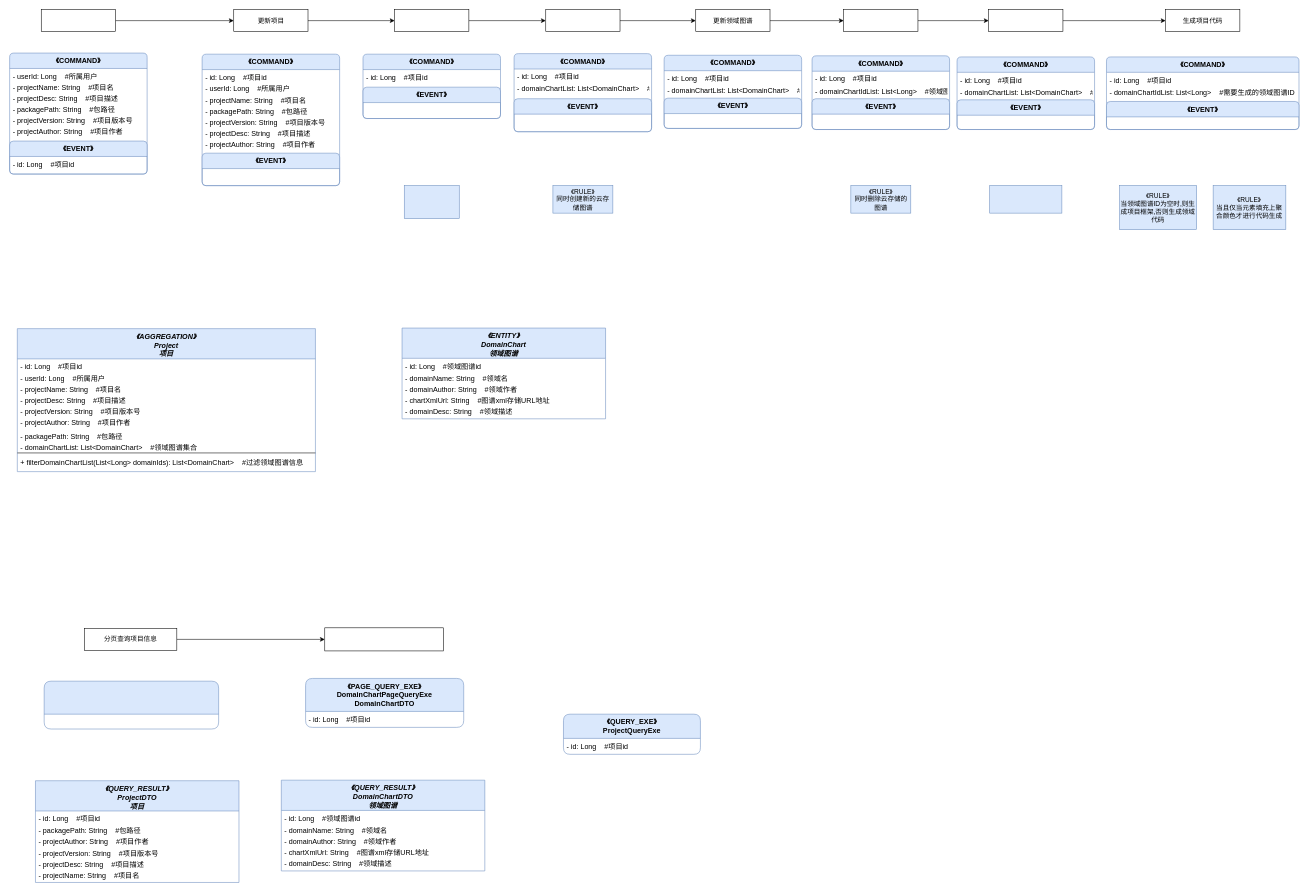
This 1309x894 diagram has some shape labels left out. The centre of each missing label's shape, as x and y in pixels:
《PAGE_QUERY_EXE》 ProjectPageQueryExe ProjectDTO: point 131,705
《RULE》 同时删除项目下的领域图谱: point 431,202
《RULE》 覆盖云端图谱: point 1025,199
分页查询项目下的领域图谱信息: point 383,639
删除项目: point 431,20
删除领域图谱: point 880,20
新增项目: point 78,20
新增领域图谱: point 582,20
更新图谱: point 1025,20
